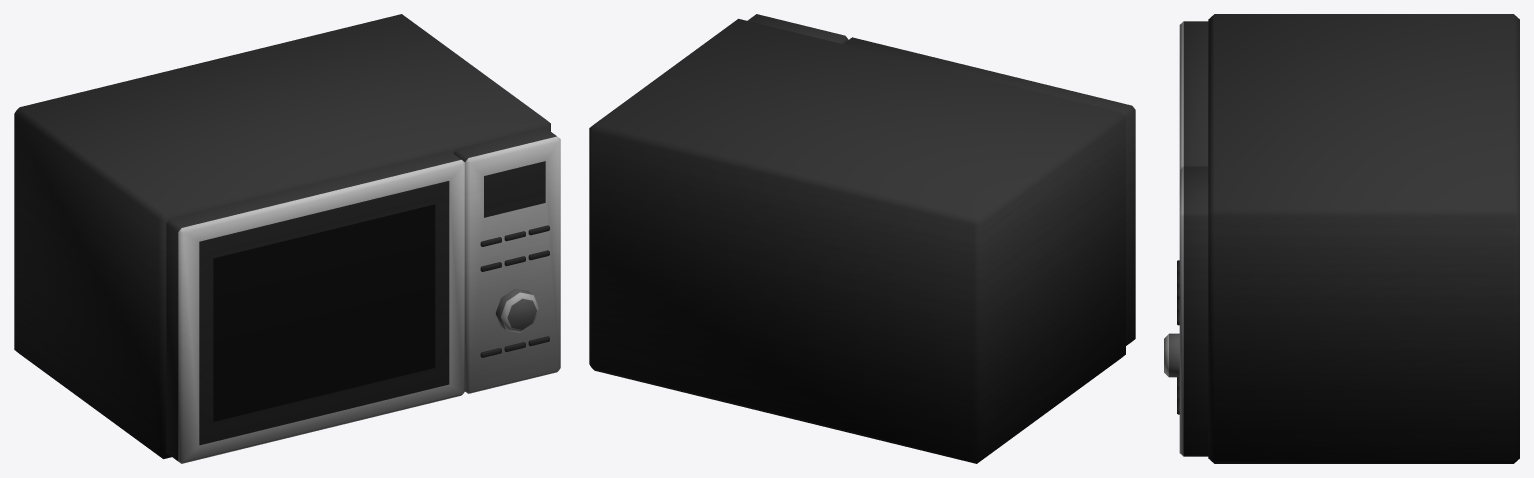
File: SM_Microwave_oven_2.fbx
3 renders of one model, left to right at view 1: azimuth 30°, elevation 25°; view 2: azimuth 150°, elevation 25°; view 3: azimuth 270°, elevation 25°, orthographic. The views are drawn at different scales.
Parts seen in each view (by area): view 1: SM_Microwave_oven_2; view 2: SM_Microwave_oven_2; view 3: SM_Microwave_oven_2.
Part boxes in pixels (box(x1,y1,x2,y2)): SM_Microwave_oven_2: box(14, 14, 560, 463); SM_Microwave_oven_2: box(589, 14, 1135, 463); SM_Microwave_oven_2: box(1164, 14, 1519, 463).
Bounding box in the file's own units: 50 × 30 × 37.77.
1 material, 1 textured.
